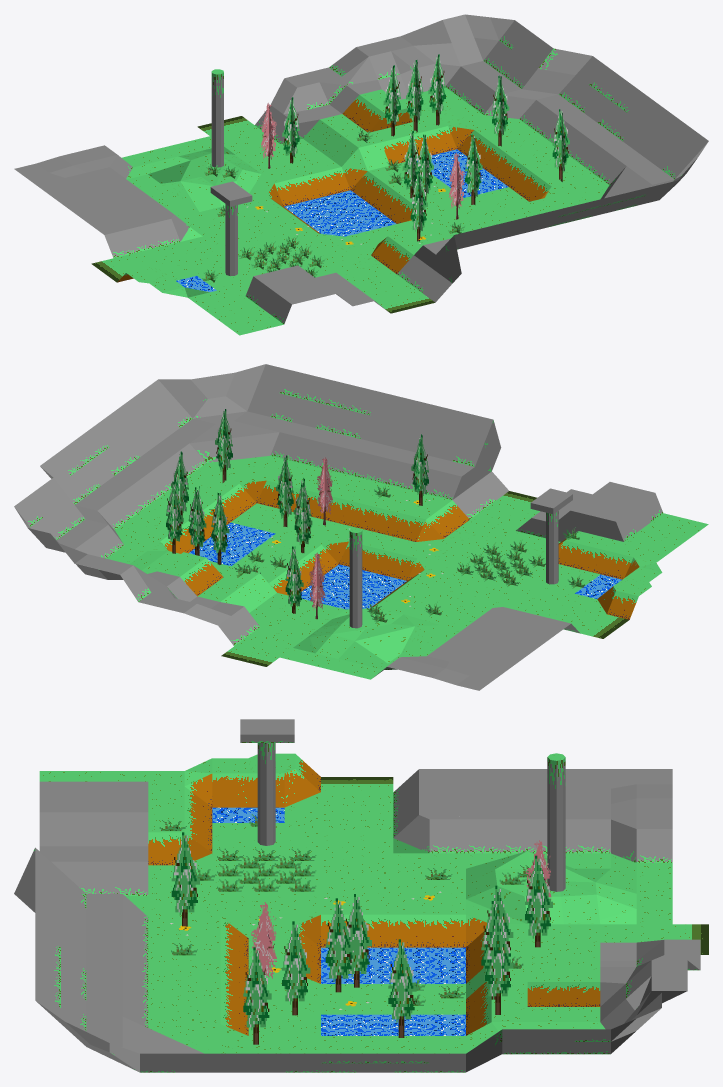
File: BlockTile_1781894212.glb
3 views of the same model, one above another, from view 1: azimuth 30°, elevation 25°; view 2: azimuth 150°, elevation 25°; view 3: azimuth 270°, elevation 25° (orthographic). The views are drawn at different scales.
Visible parts, largest first — view 1: loose, group_FEEF74E5, group_C88AA4AE, group_A0885D03, group_82DCD5CD, group_52780493, group_F6DCD2D6, group_30BE8B1C, group_C88B6039; view 2: loose, group_FEEF74E5, group_C88AA4AE, group_82DCD5CD, group_52780493, group_C88B6039, group_30BE8B1C, group_A0885D03; view 3: loose, group_FEEF74E5, group_C88AA4AE, group_A0885D03, group_F6DCD2D6, group_82DCD5CD, group_52780493, group_C88B6039.
Boxes of the visible parts, <box> form: loose: <box>14,14,708,335</box>; group_FEEF74E5: <box>211,69,223,167</box>; group_C88AA4AE: <box>225,204,237,276</box>; group_A0885D03: <box>492,75,509,146</box>; group_82DCD5CD: <box>410,172,427,241</box>; group_52780493: <box>210,181,252,206</box>; group_F6DCD2D6: <box>416,134,433,200</box>; group_30BE8B1C: <box>261,103,276,168</box>; group_C88B6039: <box>449,152,464,219</box>; loose: <box>14,364,708,690</box>; group_FEEF74E5: <box>349,527,362,628</box>; group_C88AA4AE: <box>546,511,558,584</box>; group_82DCD5CD: <box>411,434,428,505</box>; group_52780493: <box>530,488,572,514</box>; group_C88B6039: <box>317,457,332,525</box>; group_30BE8B1C: <box>309,552,325,619</box>; group_A0885D03: <box>171,451,188,523</box>; loose: <box>14,753,708,1072</box>; group_FEEF74E5: <box>547,753,565,891</box>; group_C88AA4AE: <box>257,743,275,845</box>; group_A0885D03: <box>388,939,416,1037</box>; group_F6DCD2D6: <box>325,898,353,992</box>; group_82DCD5CD: <box>171,832,199,929</box>; group_52780493: <box>240,719,294,742</box>; group_C88B6039: <box>251,902,276,978</box>.
Bounding box in the file's own units: 23.6 × 5.1 × 19.18.
12 materials, 11 textured.
